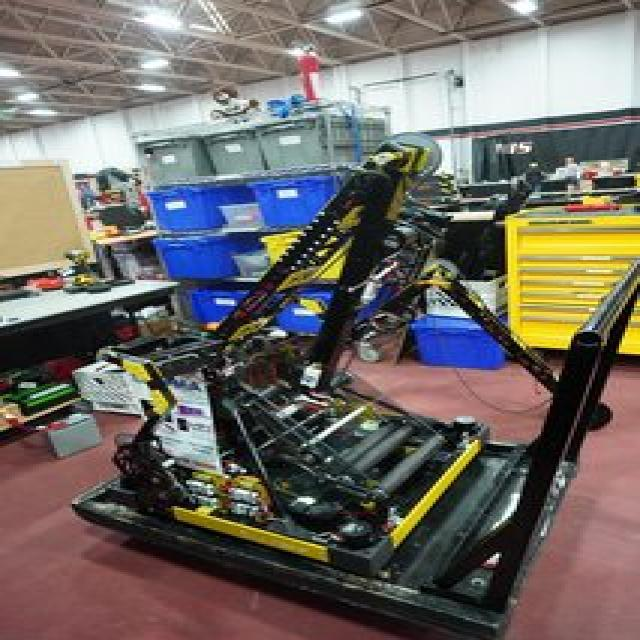robot: (111, 130, 491, 576)
